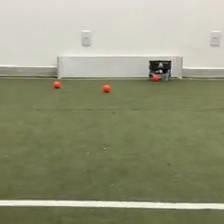ball: (101, 82, 111, 92), (52, 79, 61, 88), (152, 72, 160, 81)
goal: (55, 53, 184, 81)
robot: (146, 58, 172, 82)
